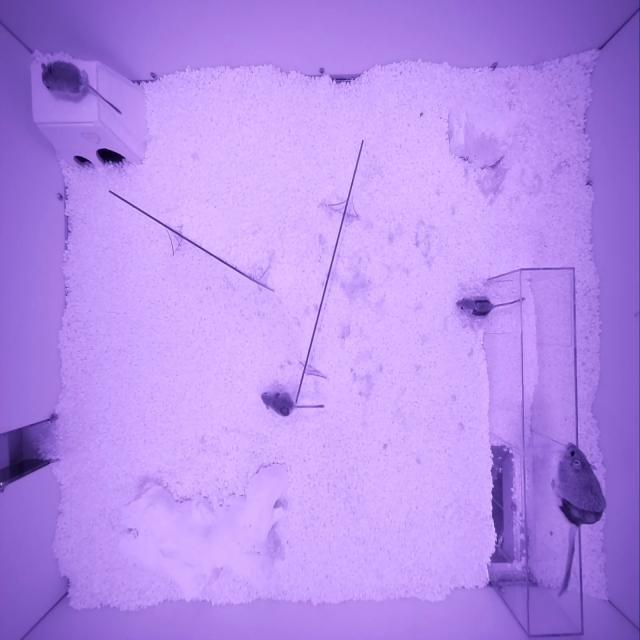adult_back: (556, 442, 607, 527)
pup_fluffy: (41, 61, 90, 101)
pup_spotted: (261, 391, 295, 416)
pup_v_stripe: (455, 296, 492, 319)
